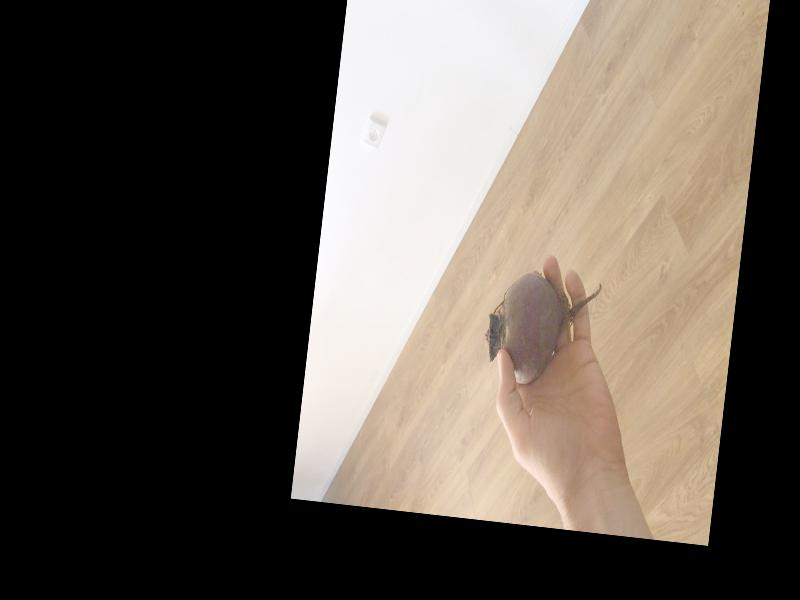Beet: (483, 266, 603, 391)
